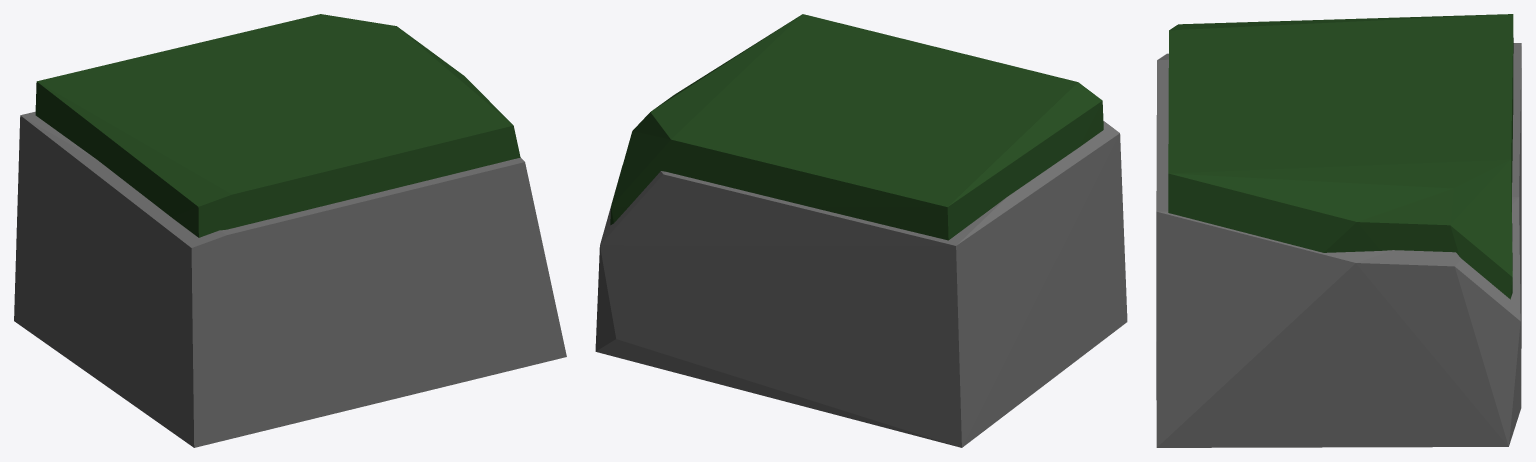
File: SM_stoneblock_jungle_03.fbx
The picture shows the model from 3 angles, left to right: view 1: azimuth 30°, elevation 25°; view 2: azimuth 150°, elevation 25°; view 3: azimuth 270°, elevation 25°; orthographic projection. The views are drawn at different scales.
Parts seen in each view (by area): view 1: Object062; view 2: Object062; view 3: Object062.
Part boxes in pixels (x1,y1,x2,y2): Object062: [14, 14, 566, 447]; Object062: [595, 14, 1127, 447]; Object062: [1156, 14, 1521, 447].
Size of the model in its own units: 40.67 by 24.43 by 32.34.
